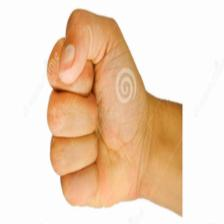five: (48, 4, 148, 217)
